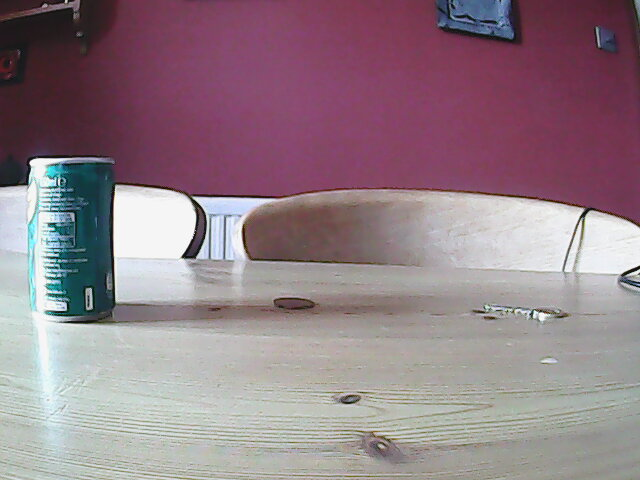Can: (20, 153, 123, 324)
Coin: (272, 295, 317, 312)
Key: (477, 298, 569, 323)
